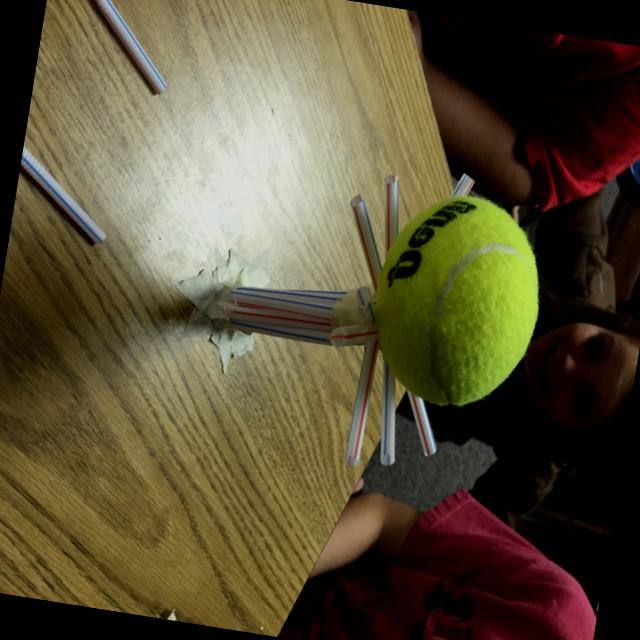Tennis Ball: (360, 184, 556, 421)
